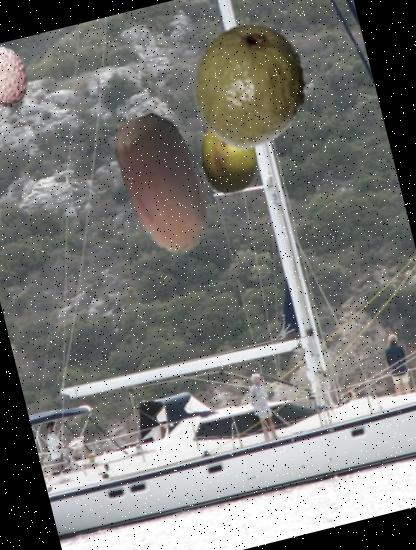Guava: (172, 8, 330, 166)
Hazelnut: (75, 98, 253, 276)
Lychee: (0, 40, 39, 113)
Pomelo: (184, 114, 274, 204)
